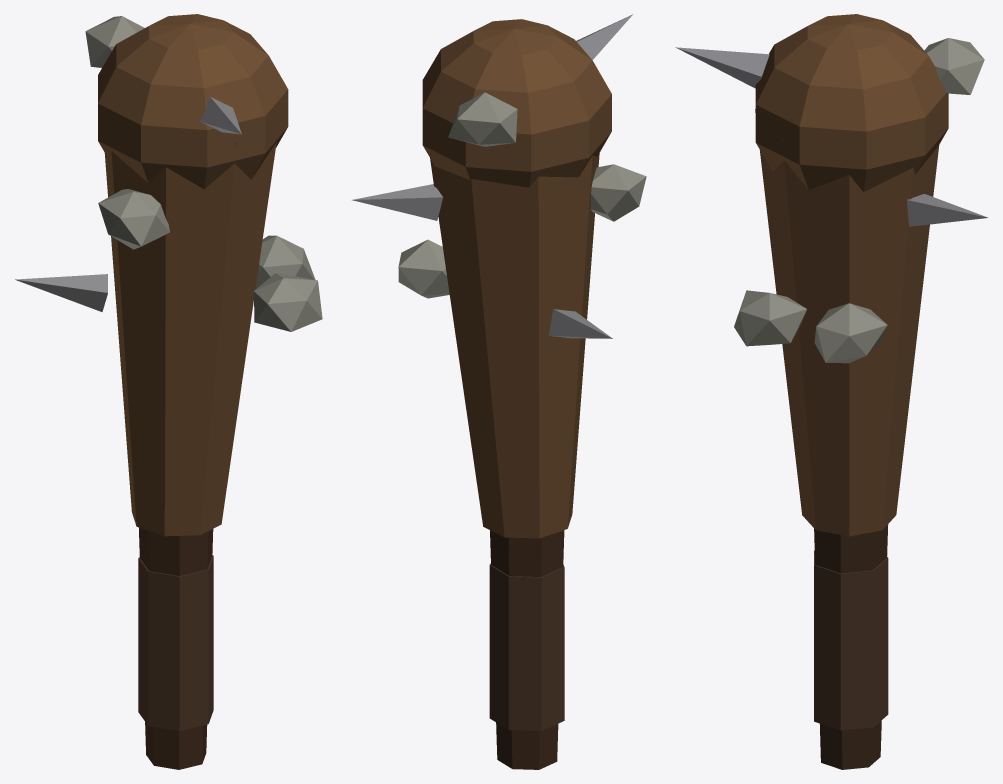
File: stonebrow_club.glb
3 views of the same model, side by side, from view 1: azimuth 30°, elevation 25°; view 2: azimuth 150°, elevation 25°; view 3: azimuth 270°, elevation 25° (orthographic).
Parts seen in each view (by area): view 1: stonebrow_club; view 2: stonebrow_club; view 3: stonebrow_club.
Part boxes in pixels (<box>): stonebrow_club: <box>15,14,322,769</box>; stonebrow_club: <box>352,14,646,769</box>; stonebrow_club: <box>675,14,988,769</box>.
Size of the model in its own units: 0.3763 by 1.04 by 0.4.
